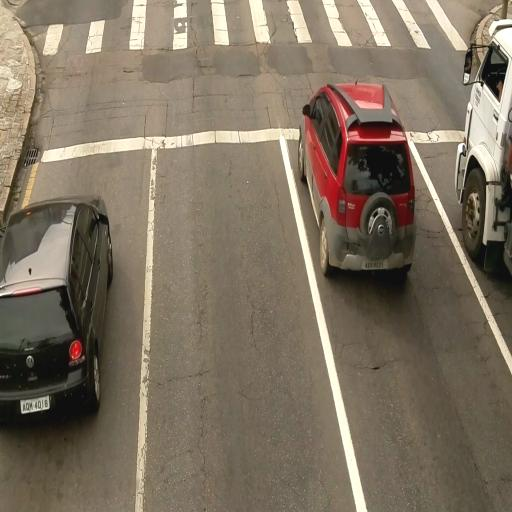car: (0, 196, 114, 424), (300, 79, 416, 275)
others: (454, 14, 511, 274)
